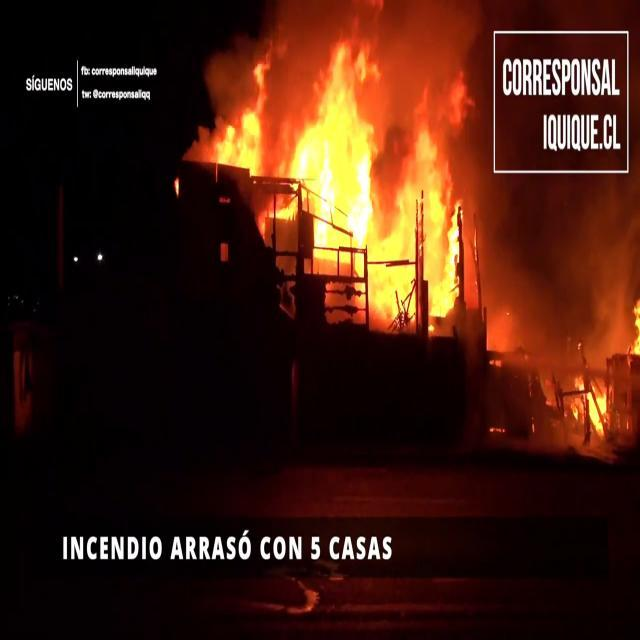Fire: (212, 26, 483, 330), (566, 362, 612, 442), (629, 292, 640, 360)
Smoke: (470, 171, 640, 441)
